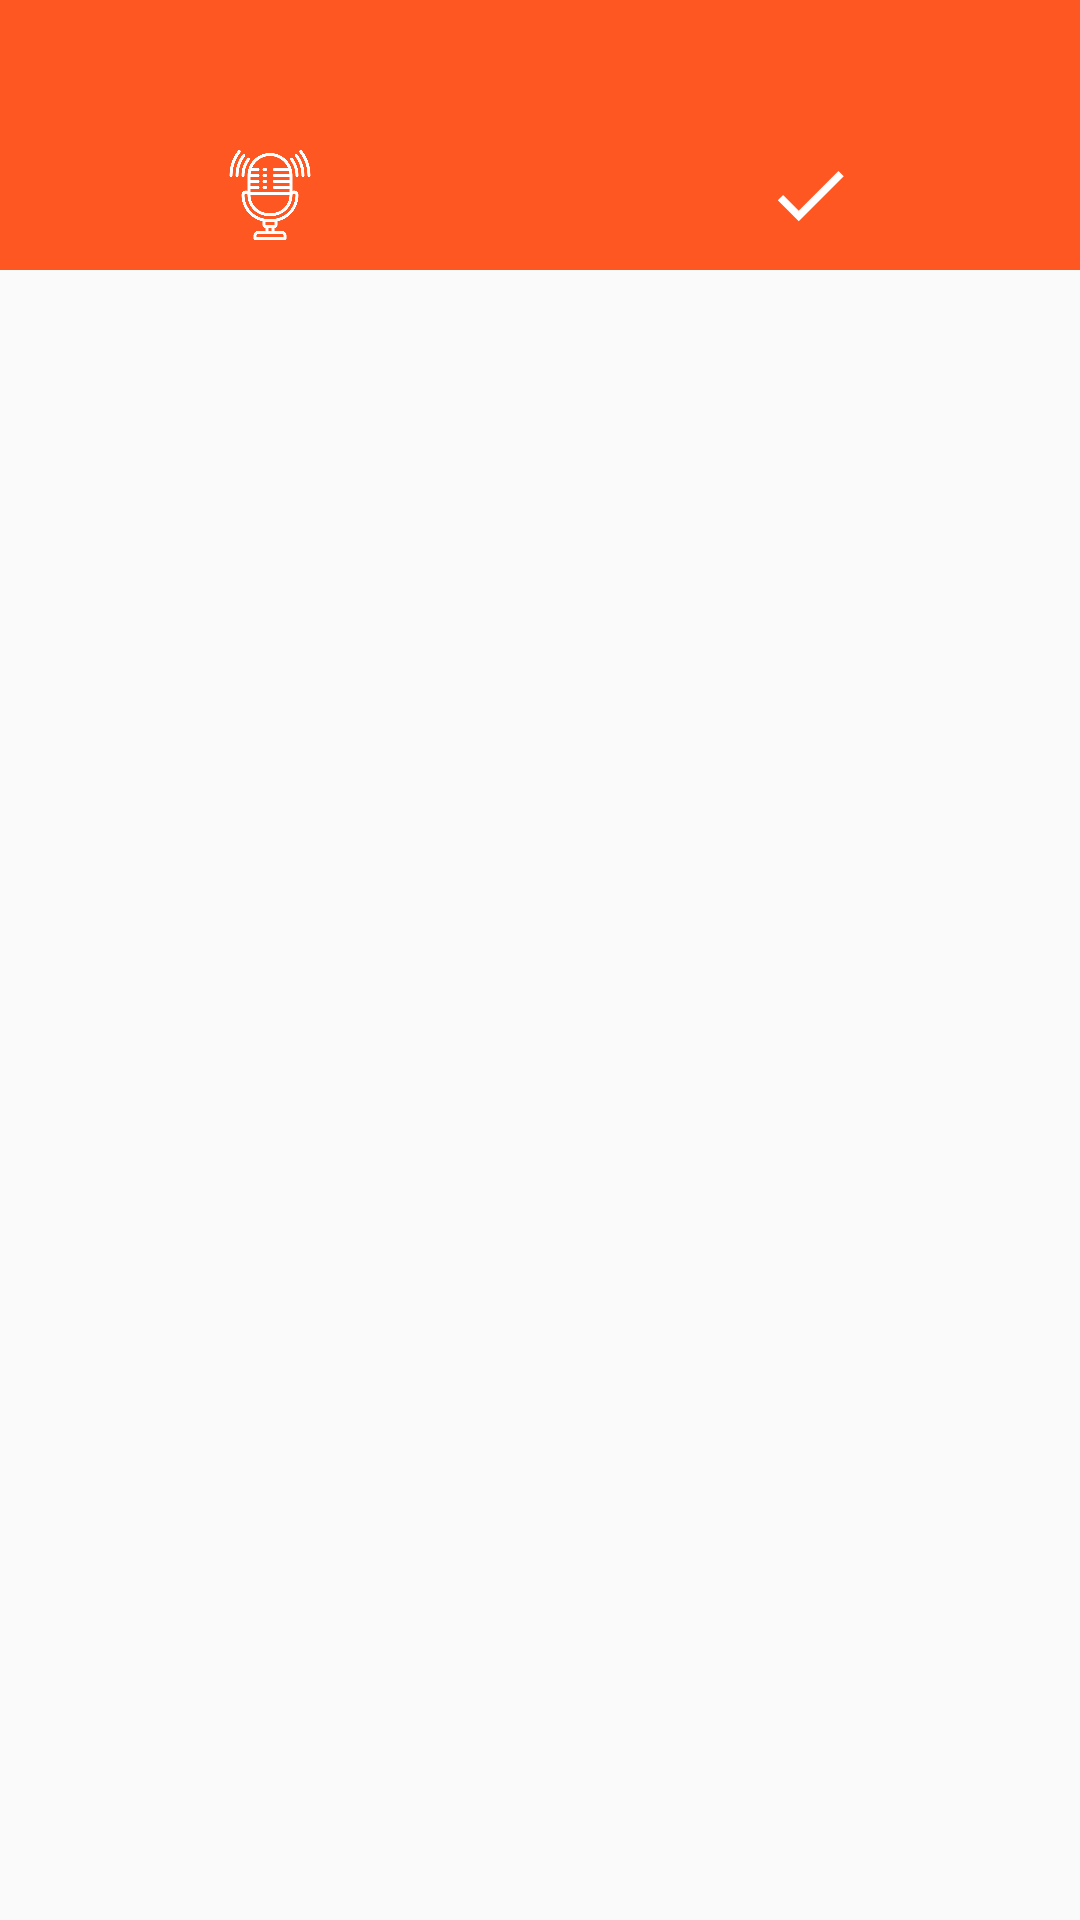

Icon click points for this 1080×1920 phone screenshot, format [x,y]:
Check: [811,196]
Mendengarkan: [270,195]
